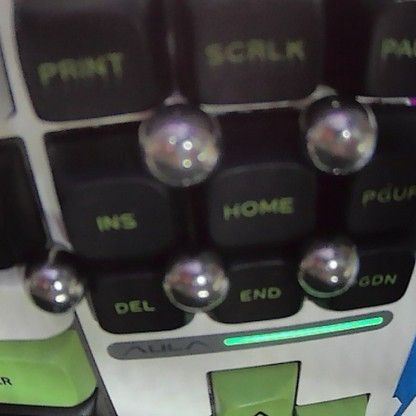ironball: (288, 76, 384, 189), (126, 101, 231, 188), (286, 233, 373, 309), (158, 244, 236, 318), (23, 256, 91, 313)
